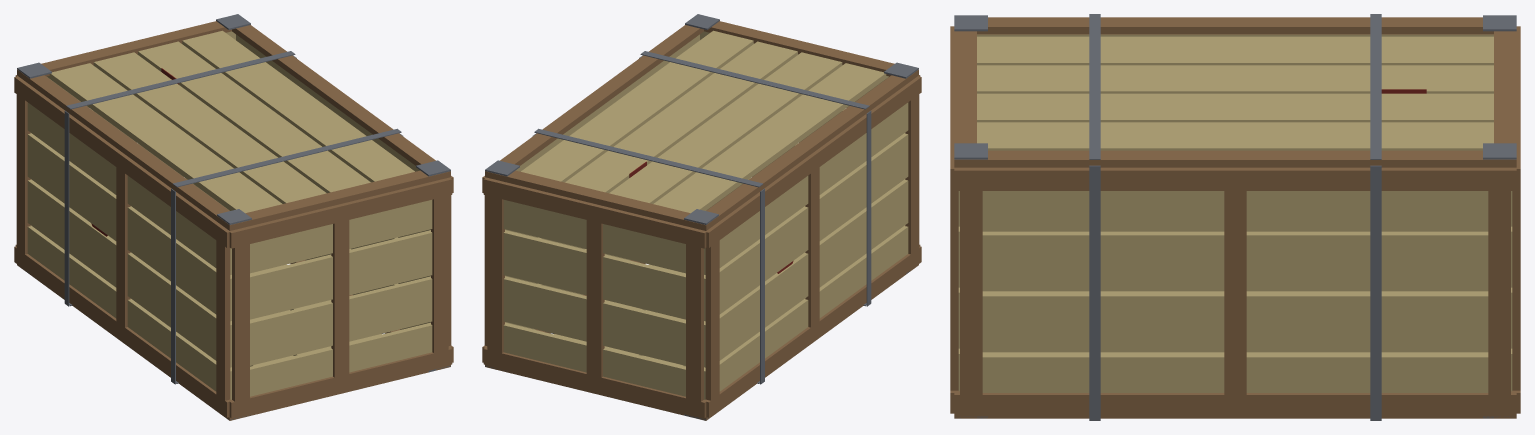
Rendered from wooden-supply-crate-about.glb.
3 views of the same model, side by side, from view 1: azimuth 30°, elevation 25°; view 2: azimuth 150°, elevation 25°; view 3: azimuth 270°, elevation 25° (orthographic). The views are drawn at different scales.
Visible parts, largest first — view 1: Mesh_PlankT3, Mesh_PlankR2, Mesh_PlankT2, Mesh_PlankT0, Mesh_PlankR1, Mesh_PlankT1, Mesh_PlankF2, Mesh_PlankF1, Mesh_PlankR0, Mesh_PlankF0, Mesh_PlankF3, Mesh_PlankR3 (+21 smaller); view 2: Mesh_PlankT3, Mesh_PlankR2, Mesh_PlankT2, Mesh_PlankT0, Mesh_PlankR1, Mesh_PlankT1, Mesh_PlankB2, Mesh_PlankB1, Mesh_PlankR0, Mesh_PlankB0, Mesh_PlankB3, Mesh_PlankR3 (+21 smaller); view 3: Mesh_PlankL1, Mesh_PlankL2, Mesh_PlankL0, Mesh_PlankL3, Mesh_PlankT1, Mesh_PlankT3, Mesh_PlankT0, Mesh_PlankT2, Mesh_BattenLHT, Mesh_BattenLHB, Mesh_BattenTLL, Mesh_BattenTLR (+22 smaller).
Boxes of the visible parts, <box> form: Mesh_PlankT3: <box>47,63,282,213</box>; Mesh_PlankR2: <box>27,133,231,321</box>; Mesh_PlankT2: <box>93,52,326,203</box>; Mesh_PlankT0: <box>182,30,414,182</box>; Mesh_PlankR1: <box>27,179,231,367</box>; Mesh_PlankT1: <box>137,41,370,193</box>; Mesh_PlankF2: <box>250,230,432,319</box>; Mesh_PlankF1: <box>250,276,432,365</box>; Mesh_PlankR0: <box>27,225,231,399</box>; Mesh_PlankF0: <box>250,322,432,396</box>; Mesh_PlankF3: <box>250,200,432,273</box>; Mesh_PlankR3: <box>27,102,231,274</box>; Mesh_PlankT3: <box>653,63,888,213</box>; Mesh_PlankR2: <box>704,133,908,321</box>; Mesh_PlankT2: <box>609,52,842,203</box>; Mesh_PlankT0: <box>521,30,753,182</box>; Mesh_PlankR1: <box>704,179,908,367</box>; Mesh_PlankT1: <box>565,41,798,193</box>; Mesh_PlankB2: <box>503,230,685,319</box>; Mesh_PlankB1: <box>503,276,685,365</box>; Mesh_PlankR0: <box>704,225,908,399</box>; Mesh_PlankB0: <box>503,322,685,396</box>; Mesh_PlankB3: <box>503,200,685,273</box>; Mesh_PlankR3: <box>704,102,908,274</box>; Mesh_PlankL1: <box>982,292,1488,352</box>; Mesh_PlankL2: <box>982,231,1488,291</box>; Mesh_PlankL0: <box>982,354,1488,392</box>; Mesh_PlankL3: <box>982,191,1488,229</box>; Mesh_PlankT1: <box>977,93,1493,122</box>; Mesh_PlankT3: <box>977,36,1493,65</box>; Mesh_PlankT0: <box>977,122,1493,150</box>; Mesh_PlankT2: <box>977,65,1493,93</box>; Mesh_BattenLHT: <box>954,167,1516,190</box>; Mesh_BattenLHB: <box>954,391,1516,415</box>; Mesh_BattenTLL: <box>954,150,1516,167</box>; Mesh_BattenTLR: <box>977,17,1493,34</box>.
Bounding box in the file's own units: 0.62 × 0.512 × 1.01.
